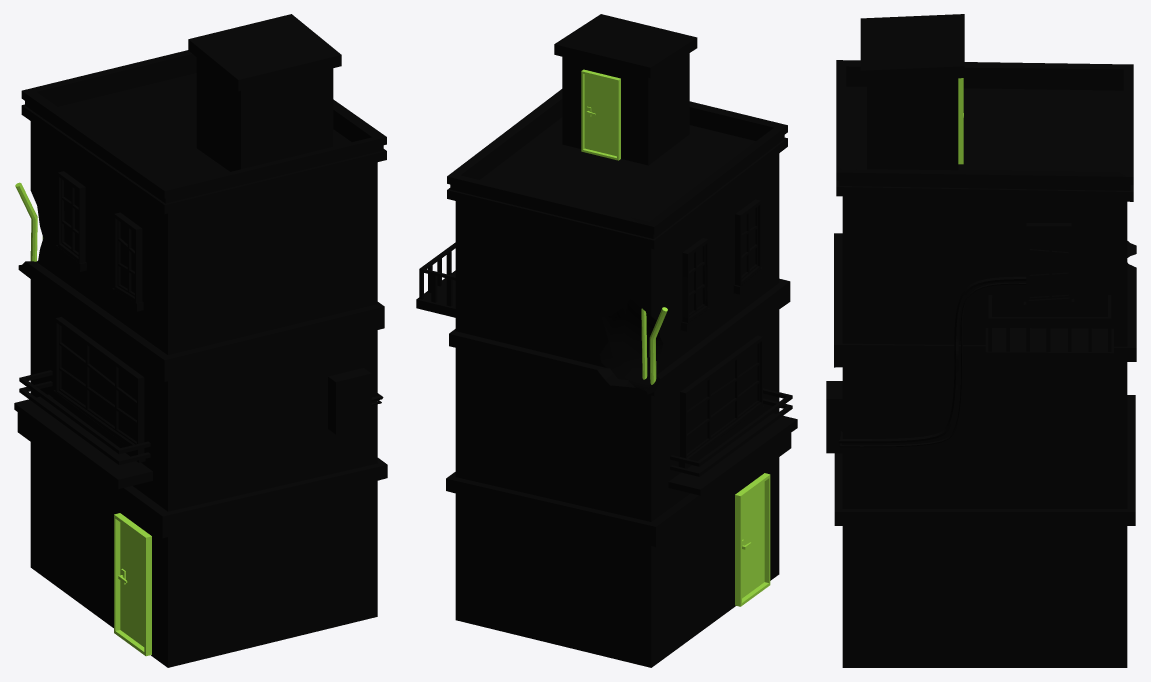
Rendered from SM_batiment1.fbx.
3 renders of one model, left to right at view 1: azimuth 30°, elevation 25°; view 2: azimuth 150°, elevation 25°; view 3: azimuth 270°, elevation 25°, orthographic. The views are drawn at different scales.
Visible parts, largest first — view 1: Box032; view 2: Box032; view 3: Box032.
Part boxes in pixels (left/top/right/bottom): Box032: left=14, top=14, right=387, bottom=667; Box032: left=416, top=14, right=797, bottom=667; Box032: left=826, top=14, right=1136, bottom=667.
Bounding box in the file's own units: 1630 × 3012 × 1440.
